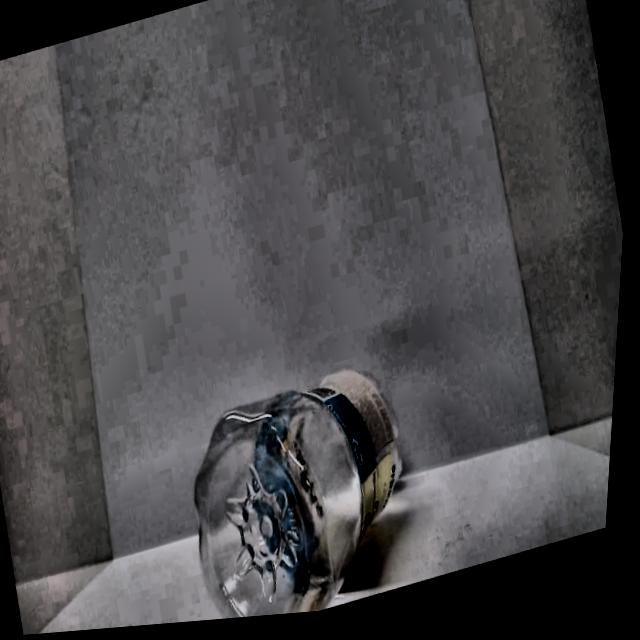Bottles: (148, 283, 485, 629)
